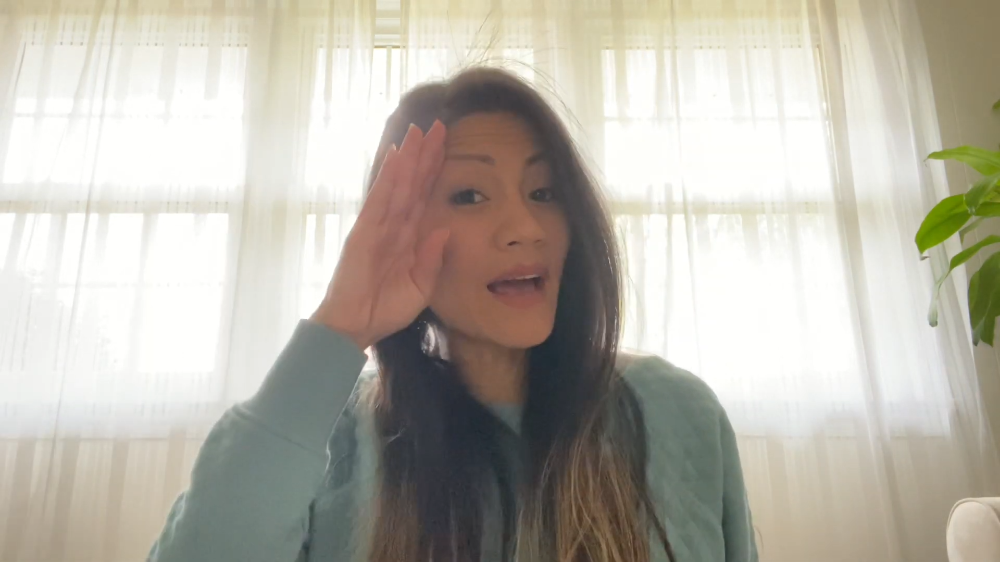hello: (333, 118, 453, 337)
